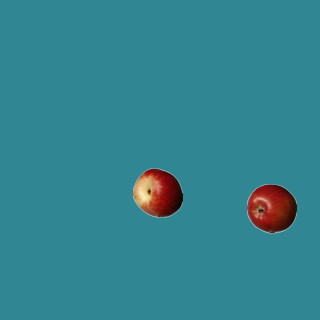Apple Braeburn: (246, 183, 296, 233)
Nectarine: (132, 167, 182, 217)
